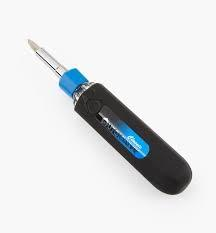screwdriver: (26, 37, 192, 195)
